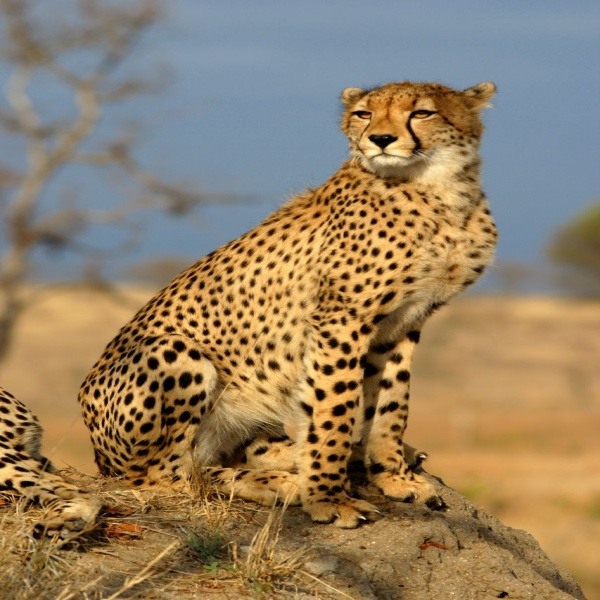Cheetah: (72, 74, 506, 534)
